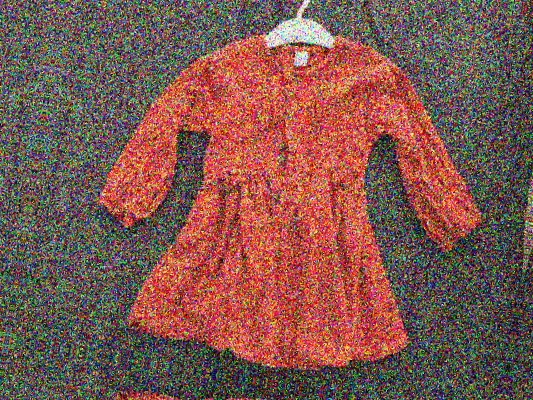Dress: (84, 0, 533, 400), (20, 363, 471, 400), (528, 48, 533, 400)
